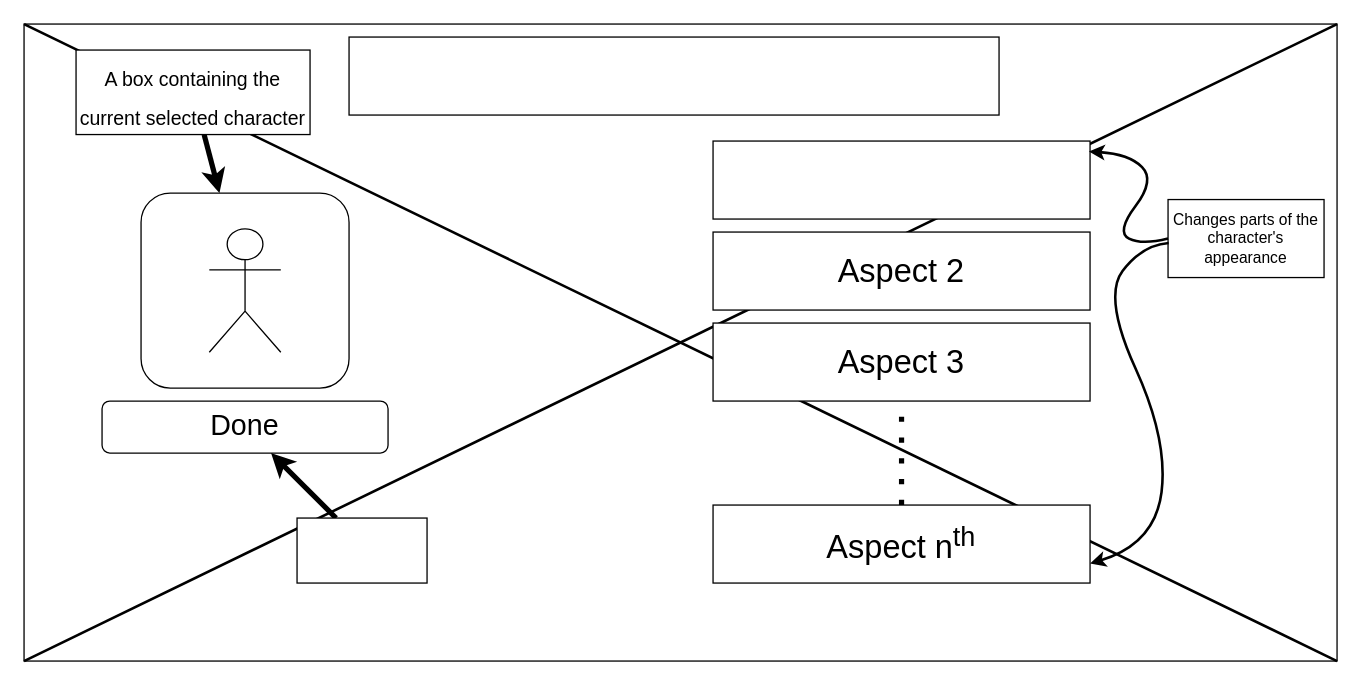
Some shapes in this 1362 by 685 pixel diagram are drawn without their labels. The shapes that lost their labels are listed below. From the top down, each one's centre as x and y in pixels, then its label:
point (673, 75): Character Select Screen
point (901, 179): Aspect 1
point (361, 550): Confirms selection
